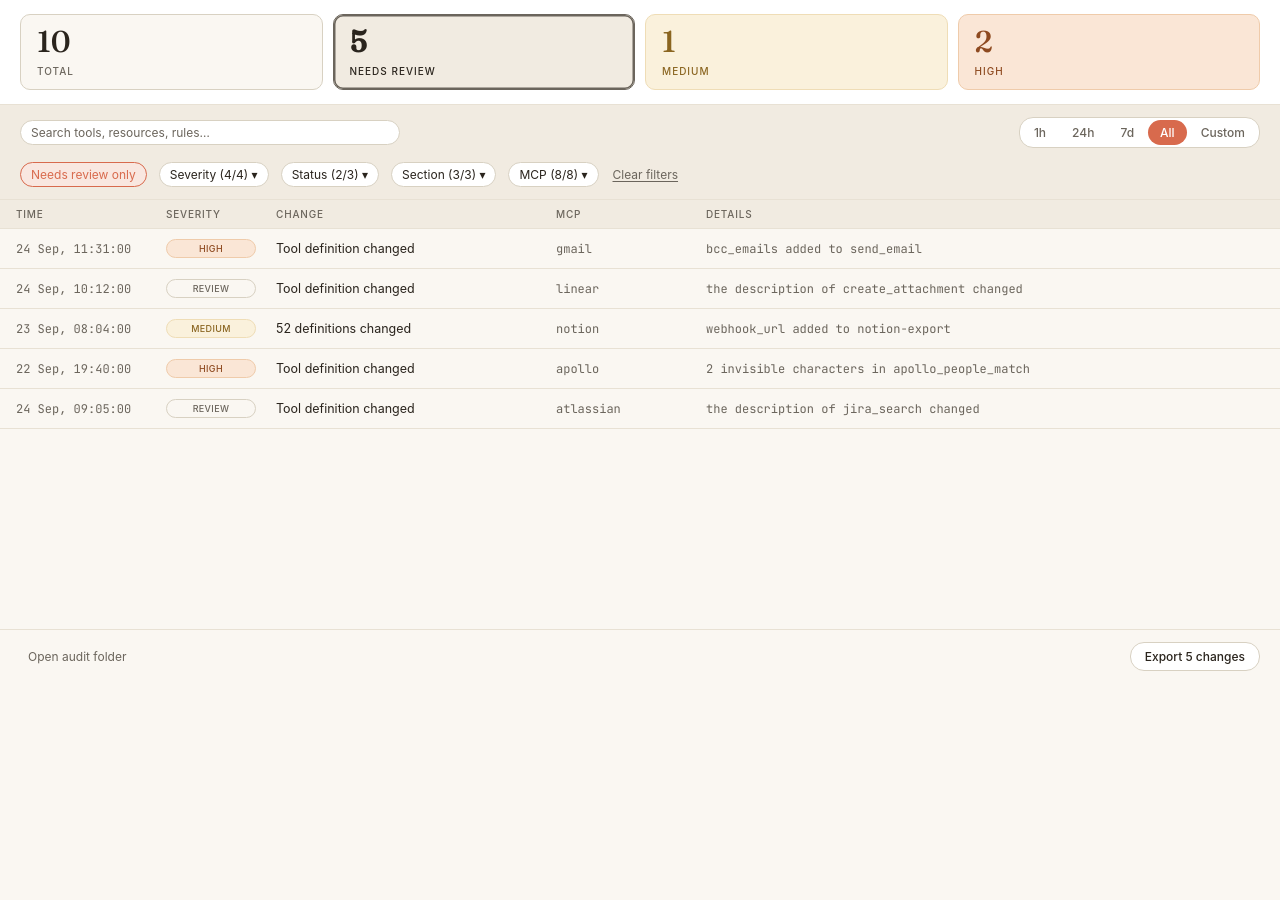
Scenario: Mark as reviewed › moves at the click, waits for the write, then settles on the trail
Click the button that starts with "24 Sep, 11:31:00" at (74, 248), box [0, 229, 1279, 269]
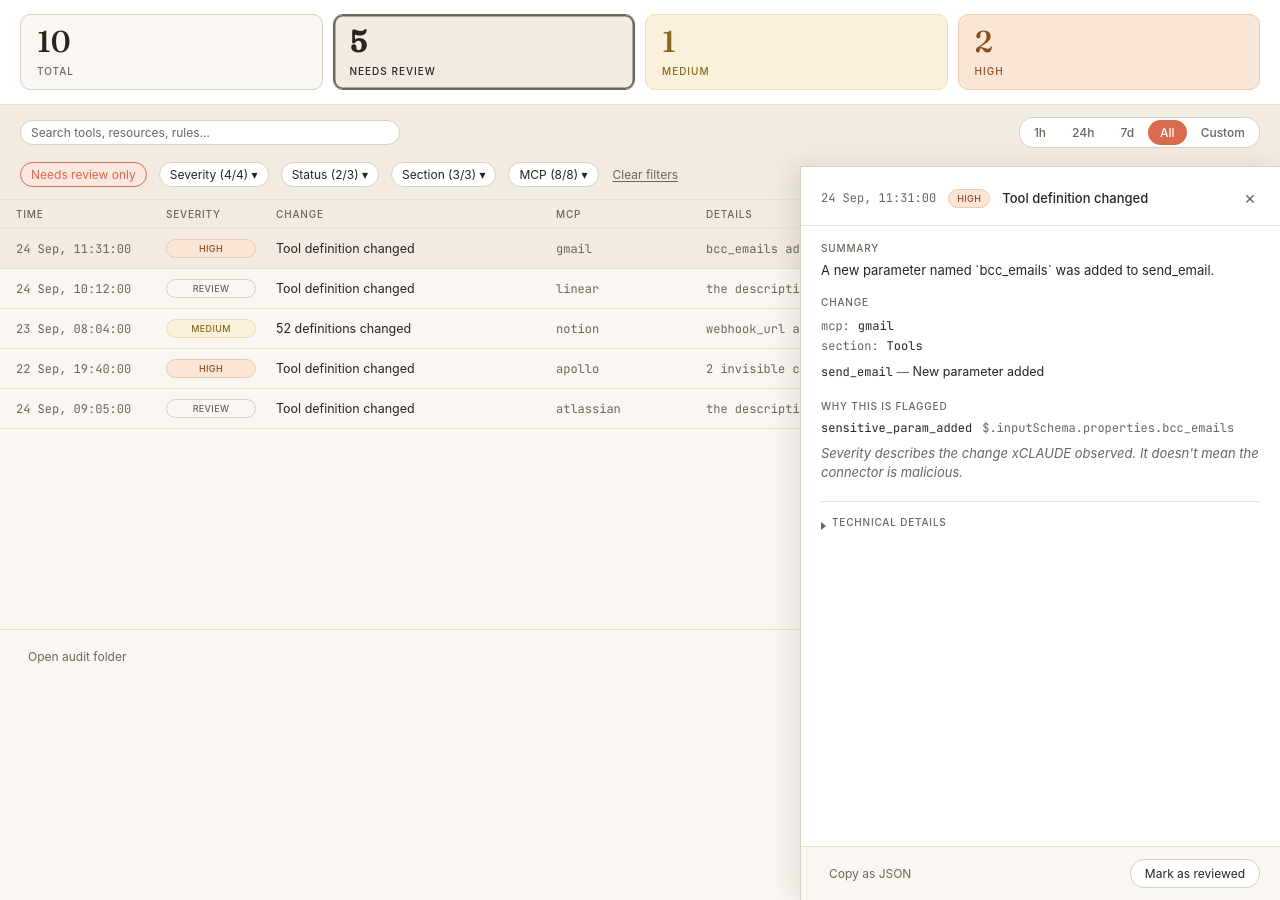
Expected: the button "5 Needs review" is shown, [332, 14, 635, 90]
Click the button "Mark as reviewed" at (1195, 874), box [1130, 859, 1260, 888]
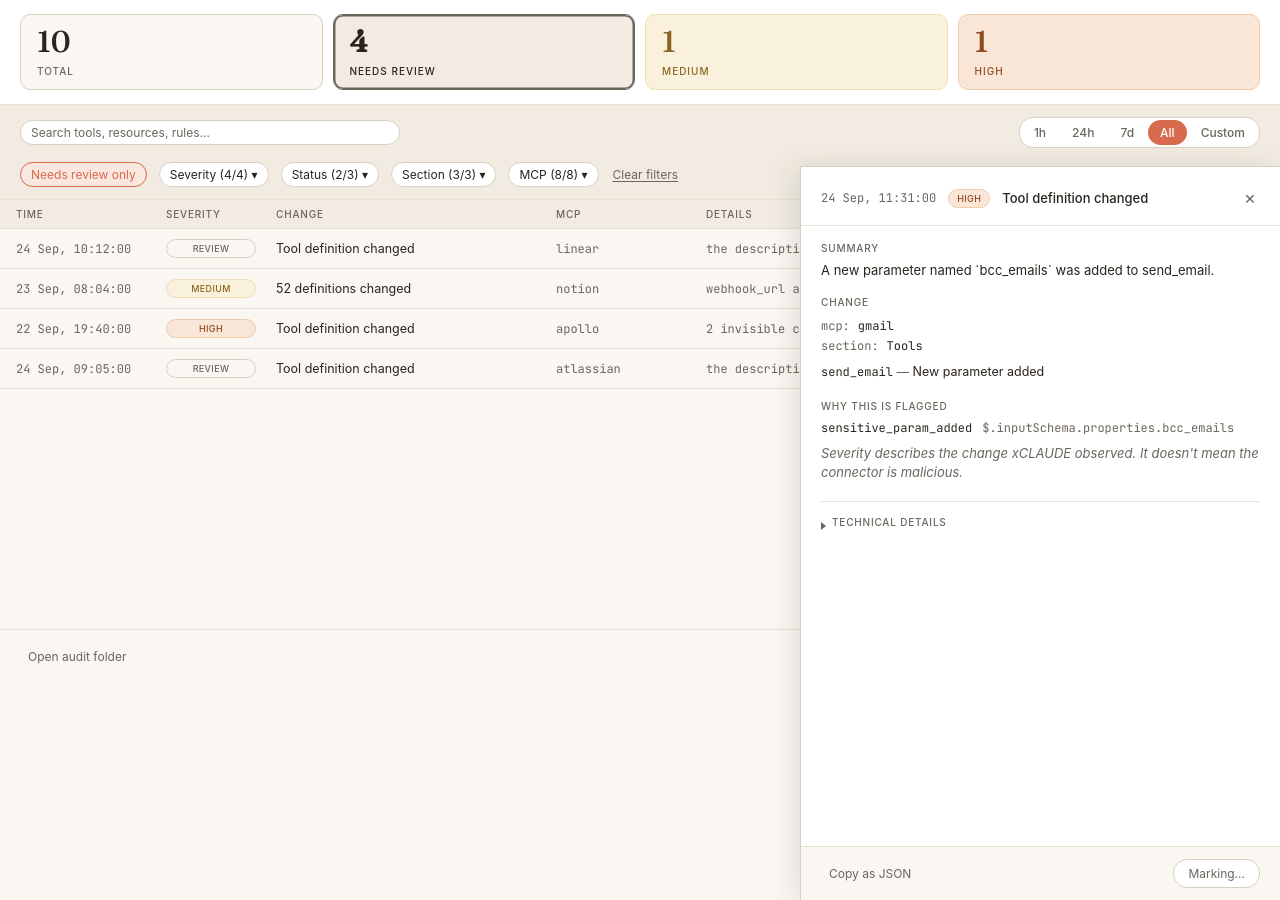
Result: the button "Marking…" is shown
Result: the button "Marking…" is disabled
Result: the button "4 Needs review" is shown at [332, 14, 635, 90]
Click the button "Marking…" at (1217, 874), box [1173, 859, 1260, 888]
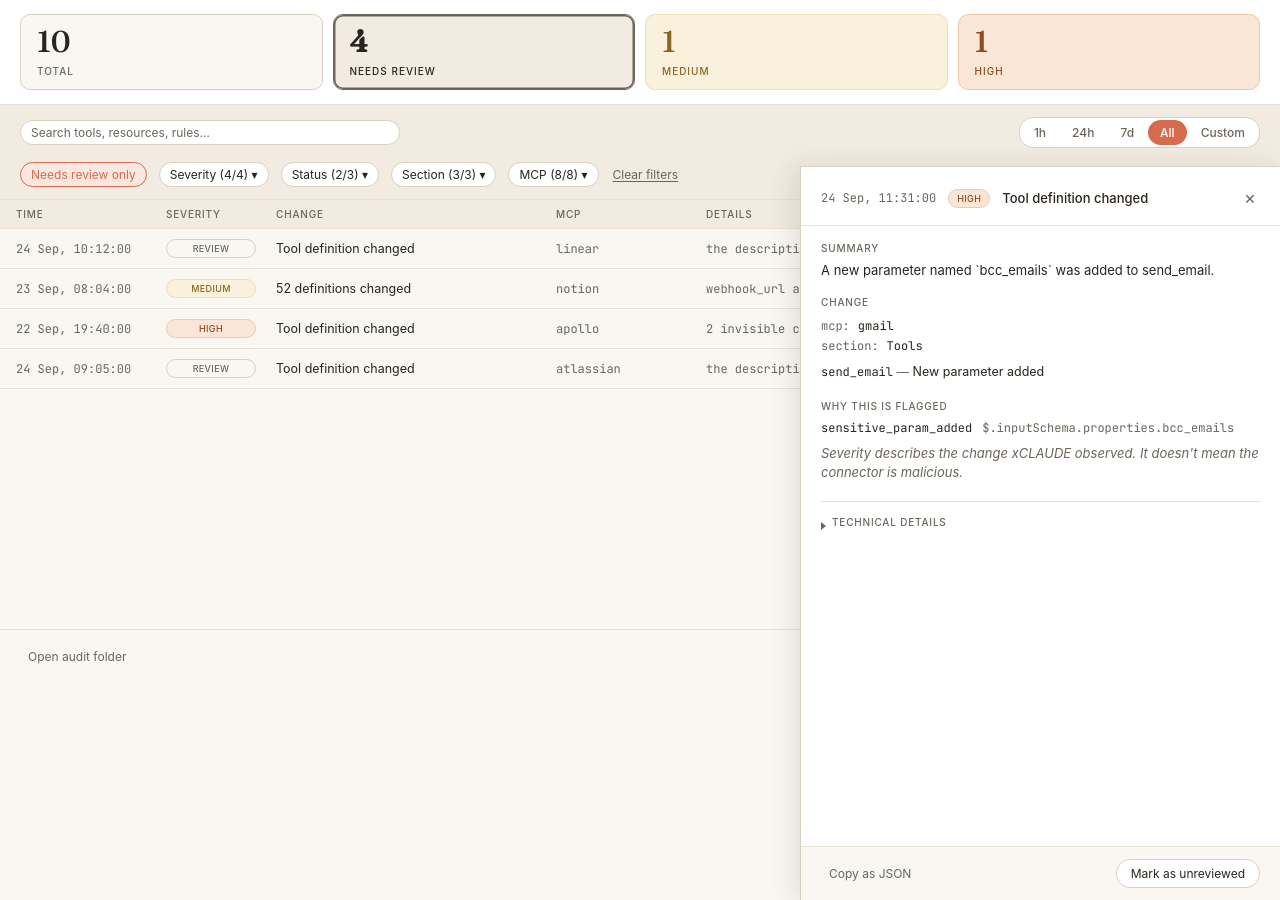
Result: the button "4 Needs review" is shown at [332, 14, 635, 90]
Result: the button "Mark as unreviewed" is shown at [1116, 859, 1260, 888]
Result: the button "Mark as unreviewed" is enabled at [1116, 859, 1260, 888]
